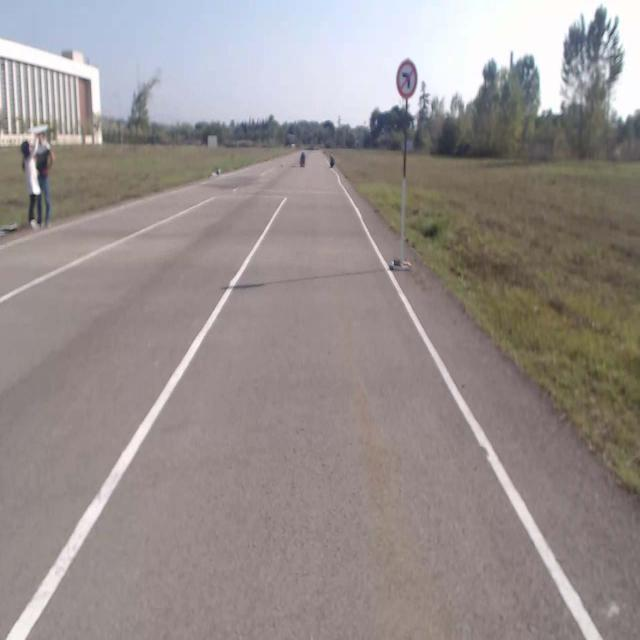soladonulmez: (397, 59, 418, 97)
